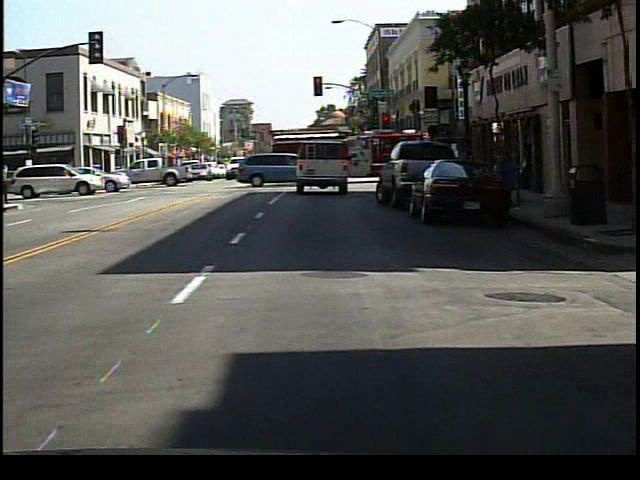person: (3, 158, 17, 209)
